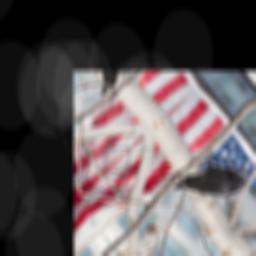Crow: (166, 135, 256, 228)
